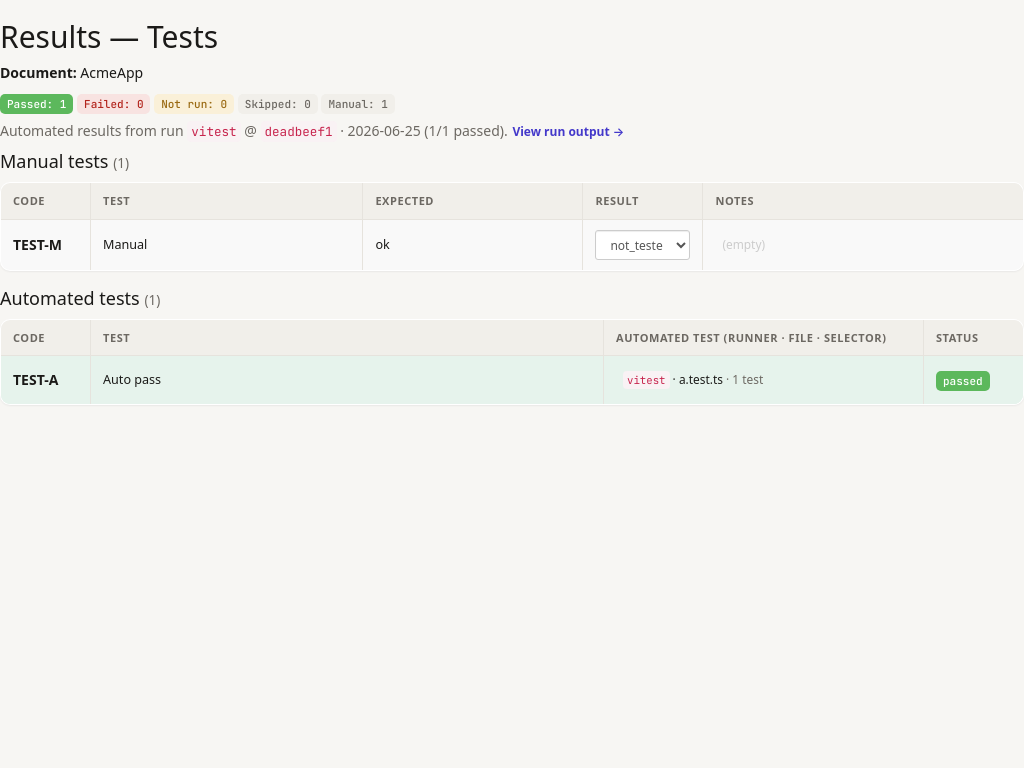
Test: TestingView — run-detail dialog (VER-6) › opens a run-detail dialog listing per-test outcomes
This screenshot has width=1024, height=768.
Click the button "View run output →" at {"x": 568, "y": 132}, box top-left (511, 122), bottom-right (625, 142)
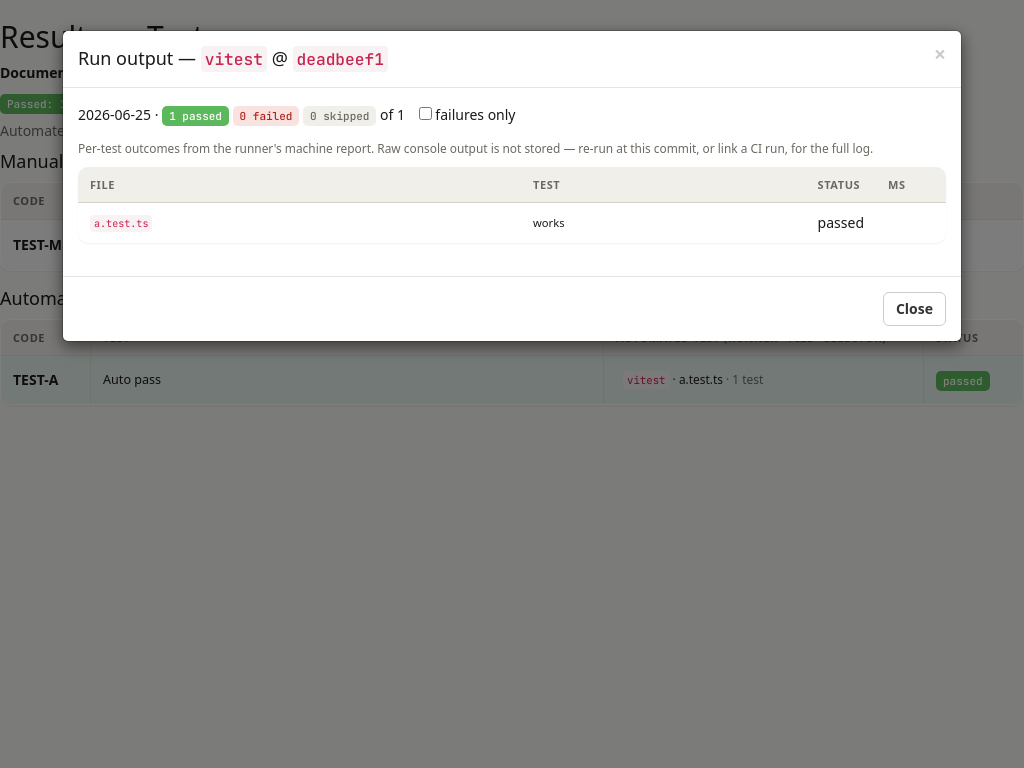
Check: the text "works" is shown, box top-left (521, 203), bottom-right (806, 243)
Check: the text "Raw console output is not stored" is shown, box top-left (78, 140), bottom-right (873, 156)
